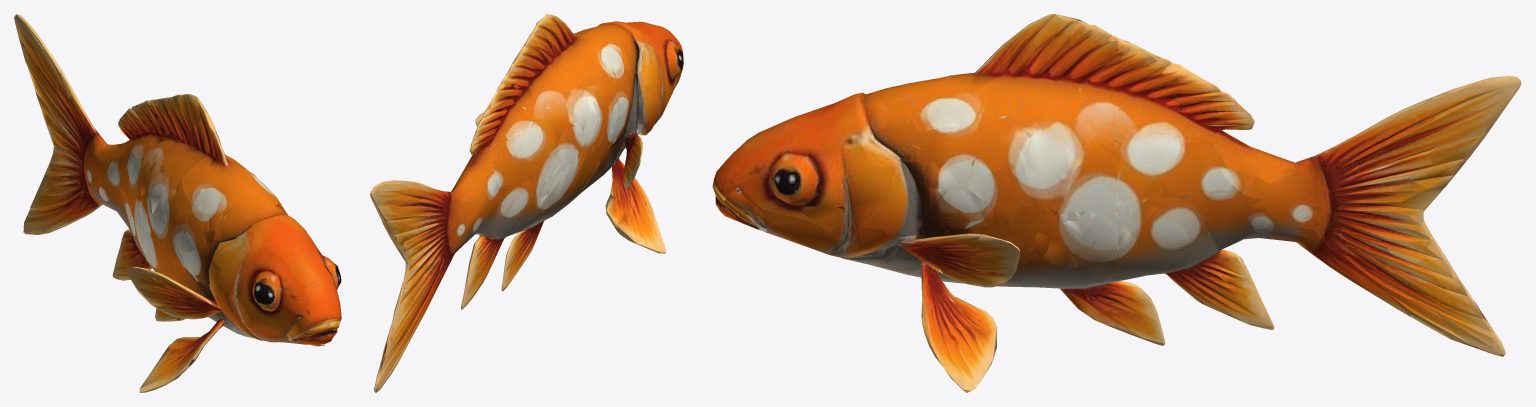
Rendered from koi.glb.
3 renders of one model, left to right at view 1: azimuth 30°, elevation 25°; view 2: azimuth 150°, elevation 25°; view 3: azimuth 270°, elevation 25°, orthographic. The views are drawn at different scales.
Bounding box in the file's own units: 0.6812 × 0.9308 × 2.
1 material, 1 textured.
